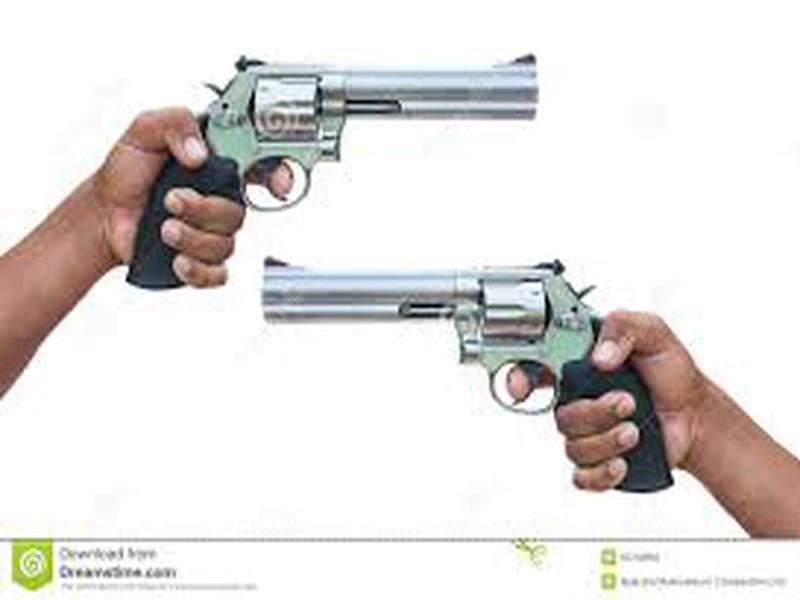gun: (258, 255, 740, 513), (95, 41, 580, 296)
